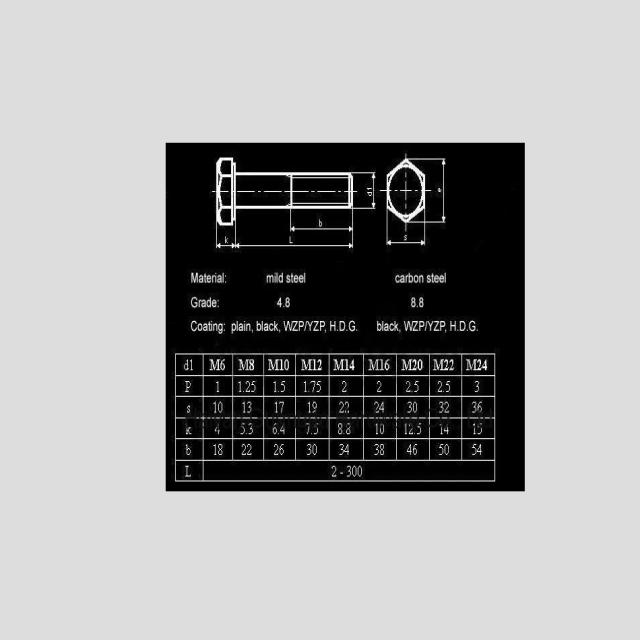marking_line: (234, 226, 354, 248), (289, 210, 354, 233), (426, 157, 446, 224), (354, 171, 377, 210), (386, 224, 426, 246), (215, 226, 237, 249)
numeric: (476, 422, 483, 437), (214, 422, 221, 435), (384, 358, 391, 371), (406, 443, 413, 456), (474, 380, 481, 393), (215, 380, 221, 394), (280, 423, 287, 435), (279, 400, 285, 414), (280, 380, 286, 394), (305, 422, 311, 436), (317, 358, 323, 372), (346, 422, 352, 436), (351, 464, 357, 478), (376, 381, 383, 393), (412, 444, 419, 456), (444, 422, 450, 436), (477, 442, 483, 456), (472, 442, 477, 458), (217, 443, 223, 456), (248, 422, 254, 435), (220, 358, 226, 371), (249, 358, 255, 371), (273, 401, 279, 414), (279, 443, 285, 456), (284, 358, 290, 371), (310, 380, 316, 393), (342, 380, 348, 393), (338, 443, 344, 456), (331, 465, 337, 478), (379, 443, 385, 456), (379, 422, 385, 435), (405, 379, 411, 392), (445, 380, 451, 393), (437, 380, 443, 393), (482, 358, 488, 371), (417, 359, 424, 370), (241, 442, 246, 457), (313, 420, 318, 435), (338, 420, 343, 435), (419, 297, 425, 309), (247, 443, 253, 455), (273, 443, 279, 455), (312, 443, 318, 455), (357, 465, 363, 477), (449, 359, 455, 371), (444, 401, 450, 413), (471, 401, 477, 413), (218, 400, 223, 414), (240, 421, 245, 435), (251, 379, 256, 393), (316, 379, 321, 393), (306, 442, 311, 456), (409, 422, 414, 436), (444, 358, 449, 372), (277, 297, 283, 308), (350, 359, 356, 370), (379, 402, 385, 413), (273, 423, 278, 436), (312, 400, 317, 413), (345, 402, 350, 415), (380, 358, 385, 371), (412, 359, 417, 372), (414, 380, 419, 393), (417, 422, 422, 435), (439, 401, 444, 414), (477, 358, 482, 371), (285, 296, 290, 308), (411, 296, 416, 308), (339, 402, 344, 414), (374, 402, 379, 414), (413, 401, 418, 413), (478, 400, 483, 412), (308, 400, 312, 414), (347, 464, 351, 478), (375, 422, 379, 436), (375, 442, 379, 456), (288, 236, 294, 245), (213, 401, 217, 414), (242, 401, 246, 414), (312, 358, 316, 371), (345, 444, 349, 457), (407, 401, 411, 414), (439, 444, 443, 457), (445, 444, 449, 457), (213, 444, 217, 456), (247, 401, 251, 413), (246, 381, 250, 393), (190, 359, 194, 371), (303, 381, 307, 393), (345, 359, 349, 371), (439, 423, 443, 435), (472, 423, 476, 435), (239, 380, 242, 394), (318, 219, 323, 227), (404, 422, 407, 435), (274, 381, 277, 392), (224, 236, 228, 244), (367, 192, 373, 197), (367, 186, 373, 191), (403, 234, 407, 241), (437, 187, 442, 192)
